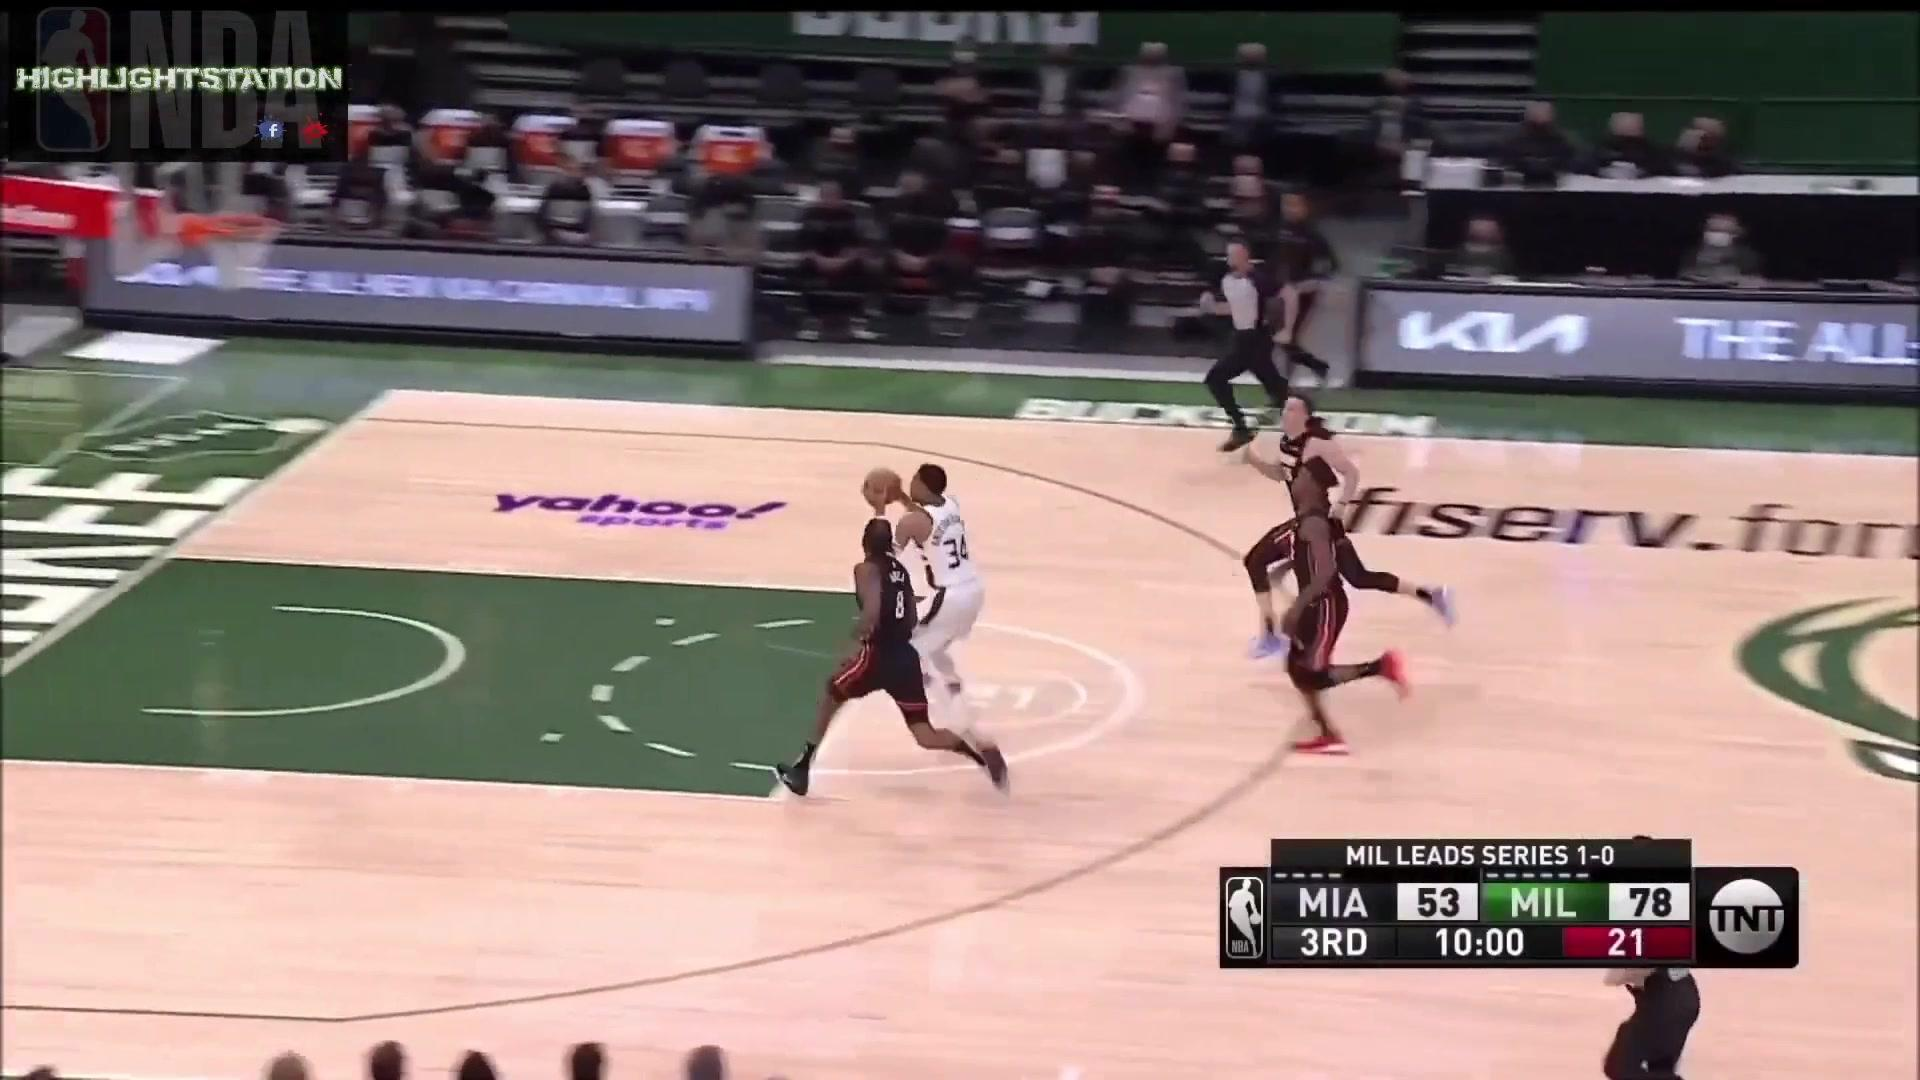no_foul: (767, 448, 1022, 815)
